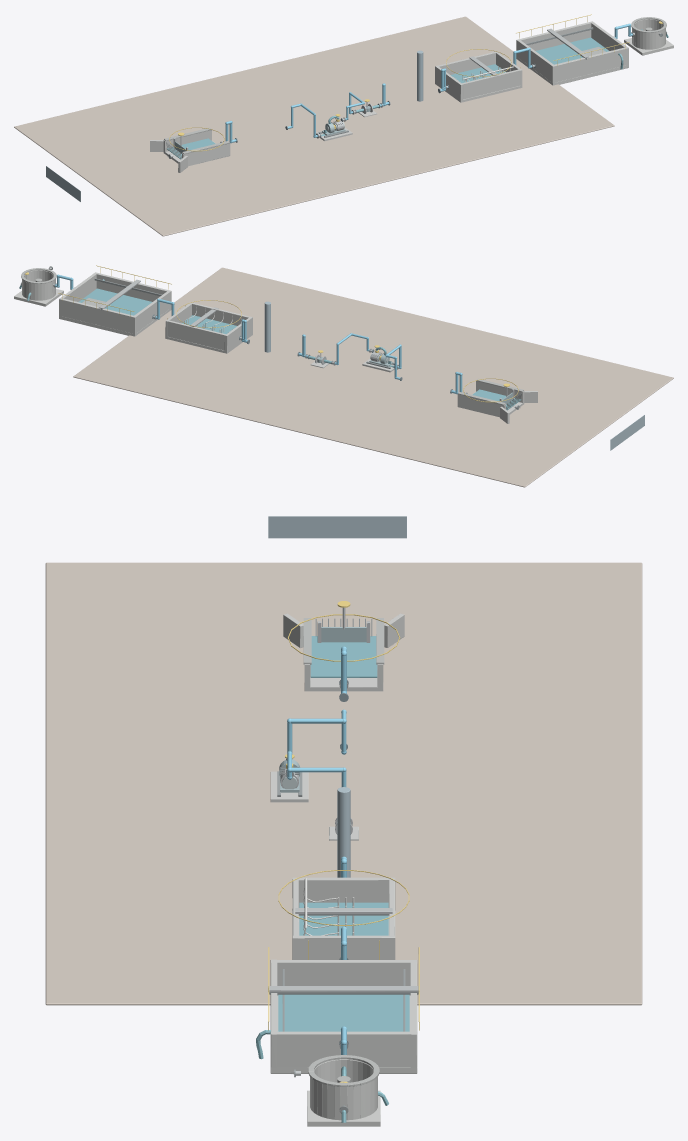
The picture shows the model from 3 angles, top to bottom: view 1: azimuth 30°, elevation 25°; view 2: azimuth 150°, elevation 25°; view 3: azimuth 270°, elevation 25°; orthographic projection. The views are drawn at different scales.
Visible parts, largest first — view 1: render-batch-9, render-batch-10, render-batch-1, render-batch-2, render-batch-5, render-batch-6, render-batch-12, render-batch-7, render-batch-3; view 2: render-batch-9, render-batch-10, render-batch-1, render-batch-2, render-batch-5, render-batch-6, render-batch-12, render-batch-7, render-batch-3; view 3: render-batch-9, render-batch-10, render-batch-1, render-batch-5, render-batch-7, render-batch-2, render-batch-6, render-batch-3, render-batch-12, render-batch-4.
Part boxes in pixels (x1,y1,x2,y2): render-batch-9: (14,16,614,236); render-batch-10: (150,19,673,172); render-batch-1: (167,29,668,159); render-batch-2: (225,23,632,143); render-batch-5: (46,50,423,201); render-batch-6: (164,17,666,154); render-batch-12: (169,14,662,151); render-batch-7: (171,24,661,157); render-batch-3: (166,27,666,158); render-batch-9: (73,267,673,487); render-batch-10: (14,270,537,423); render-batch-1: (19,279,521,410); render-batch-2: (55,274,462,394); render-batch-5: (264,301,644,450); render-batch-6: (21,268,523,405); render-batch-12: (25,265,518,402); render-batch-7: (26,267,516,408); render-batch-3: (21,266,521,409); render-batch-9: (45,562,642,1005); render-batch-10: (270,613,417,1126); render-batch-1: (256,636,409,1122); render-batch-5: (268,516,406,877); render-batch-7: (268,607,419,1075); render-batch-2: (287,646,346,1054); render-batch-6: (303,618,384,1086); render-batch-3: (269,618,418,1113); render-batch-12: (268,601,419,1082); render-batch-4: (279,627,366,823).
Bounding box in the file's own units: 103 × 8.03 × 44.
